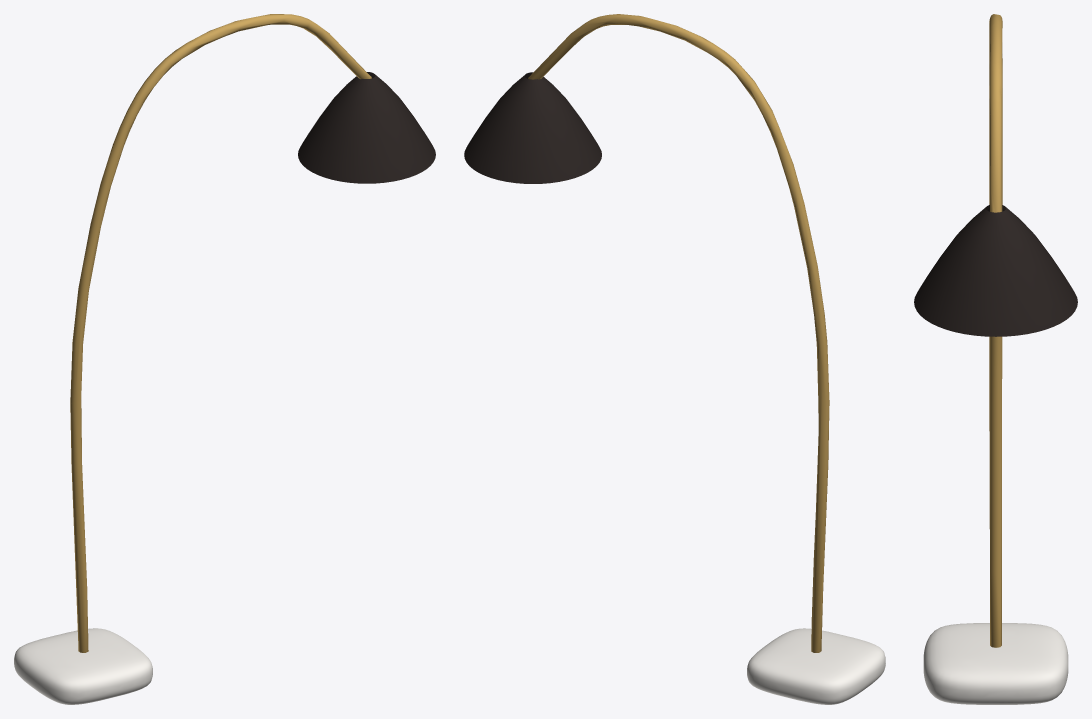
File: deco_lampara_arco.glb
The picture shows the model from 3 angles, left to right: view 1: azimuth 30°, elevation 25°; view 2: azimuth 150°, elevation 25°; view 3: azimuth 270°, elevation 25°; orthographic projection. The views are drawn at different scales.
Parts seen in each view (by area): view 1: campana.003, arco lámpara.001, base arco.001; view 2: campana.003, arco lámpara.001, base arco.001; view 3: campana.003, base arco.001, arco lámpara.001.
Part boxes in pixels (bbox=[...]): campana.003: bbox=[298, 72, 435, 183]; arco lámpara.001: bbox=[70, 14, 371, 652]; base arco.001: bbox=[14, 628, 152, 704]; campana.003: bbox=[464, 72, 601, 183]; arco lámpara.001: bbox=[528, 14, 829, 652]; base arco.001: bbox=[747, 628, 885, 704]; campana.003: bbox=[914, 205, 1077, 336]; base arco.001: bbox=[923, 623, 1068, 704]; arco lámpara.001: bbox=[989, 14, 1002, 647].
Size of the model in its own units: 1.05 by 1.58 by 0.3164.
